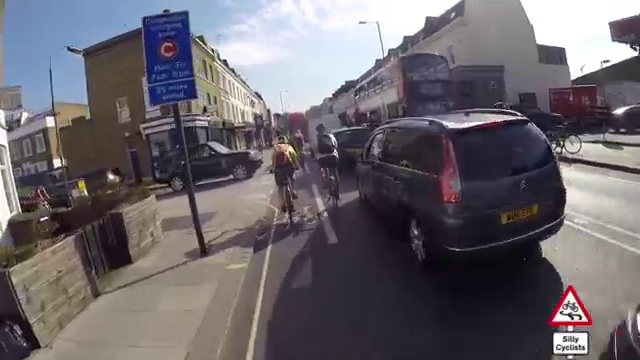cyclist_back: (268, 133, 302, 230), (310, 123, 343, 212)
